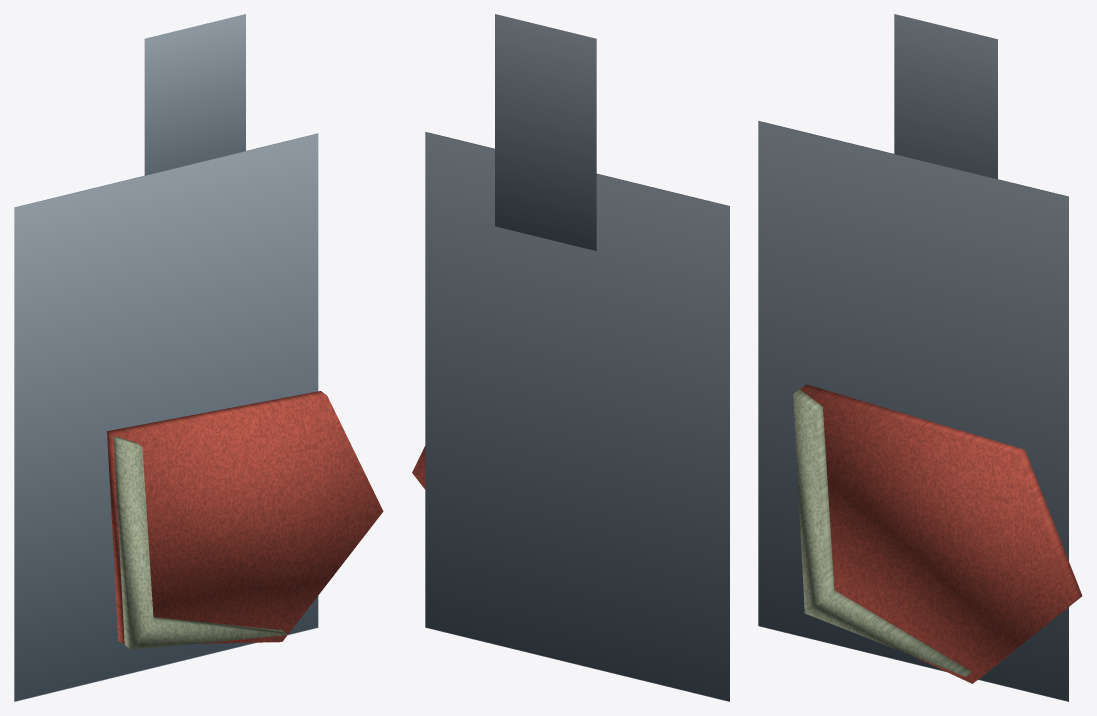
The model's file is cut_fish.glb.
3 renders of one model, left to right at view 1: azimuth 30°, elevation 25°; view 2: azimuth 150°, elevation 25°; view 3: azimuth 330°, elevation 25°, orthographic. The views are drawn at different scales.
Visible parts, largest first — view 1: cut_fish__Root__Hook_ALPHA_only, Cut_fillet_MESH, cut_fish__Root__Leader_swivel_ALPHA_only, Pale_skin_edge_MESH; view 2: cut_fish__Root__Hook_ALPHA_only, cut_fish__Root__Leader_swivel_ALPHA_only; view 3: cut_fish__Root__Hook_ALPHA_only, Cut_fillet_MESH, cut_fish__Root__Leader_swivel_ALPHA_only, Pale_skin_edge_MESH.
Boxes of the visible parts, left/top/right/bottom form: cut_fish__Root__Hook_ALPHA_only: left=14, top=133, right=318, bottom=701; Cut_fillet_MESH: left=107, top=391, right=383, bottom=644; cut_fish__Root__Leader_swivel_ALPHA_only: left=144, top=14, right=245, bottom=175; Pale_skin_edge_MESH: left=113, top=436, right=287, bottom=649; cut_fish__Root__Hook_ALPHA_only: left=425, top=132, right=729, bottom=701; cut_fish__Root__Leader_swivel_ALPHA_only: left=495, top=14, right=596, bottom=251; cut_fish__Root__Hook_ALPHA_only: left=758, top=121, right=1068, bottom=701; Cut_fillet_MESH: left=800, top=384, right=1082, bottom=683; cut_fish__Root__Leader_swivel_ALPHA_only: left=894, top=14, right=997, bottom=178; Pale_skin_edge_MESH: left=793, top=389, right=971, bottom=676.
Bounding box in the file's own units: 0.0302 × 0.0535 × 0.0057.
3 materials, 3 textured.
